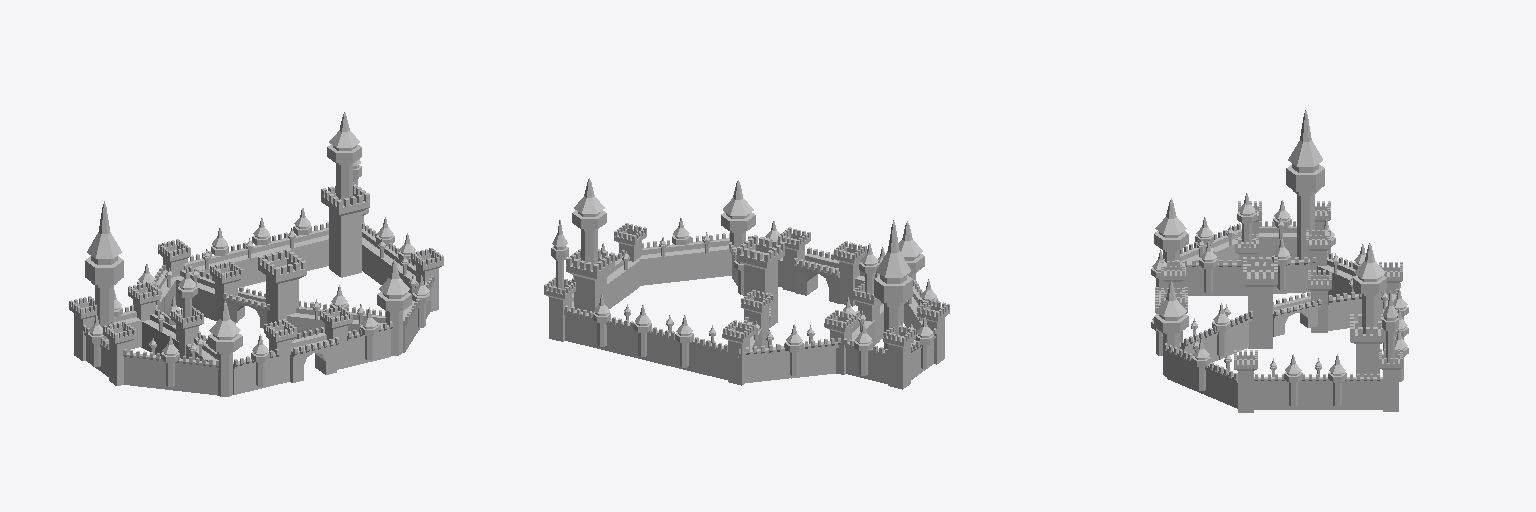
File: Castle.obj
3 renders of one model, left to right at view 1: azimuth 30°, elevation 25°; view 2: azimuth 150°, elevation 25°; view 3: azimuth 270°, elevation 25°, orthographic.
Size of the model in its own units: 45.94 by 21.14 by 30.99.